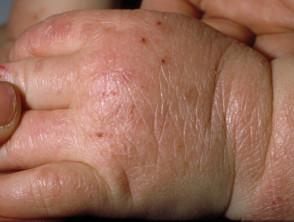Eczema: (123, 100, 142, 120), (269, 195, 285, 209), (96, 86, 110, 100), (138, 36, 150, 47), (108, 88, 121, 98), (153, 19, 167, 28), (95, 129, 105, 139), (158, 58, 170, 65)
